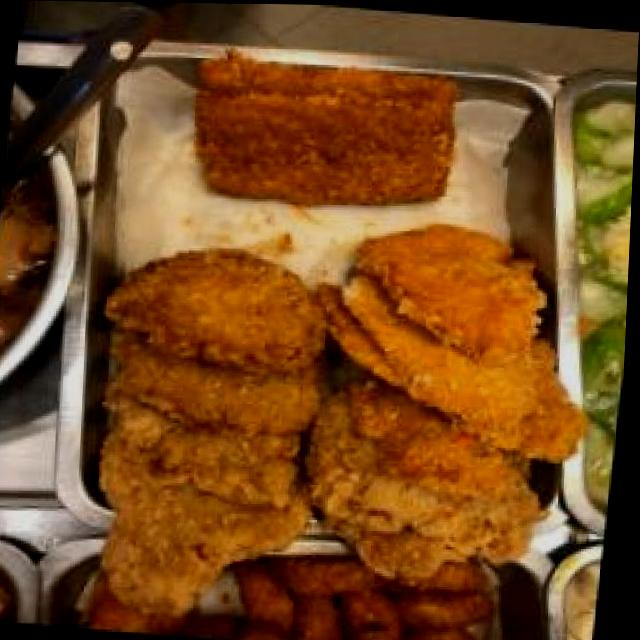fried_chicken: (109, 221, 565, 562)
triangle_hash_brown: (91, 526, 515, 640)
